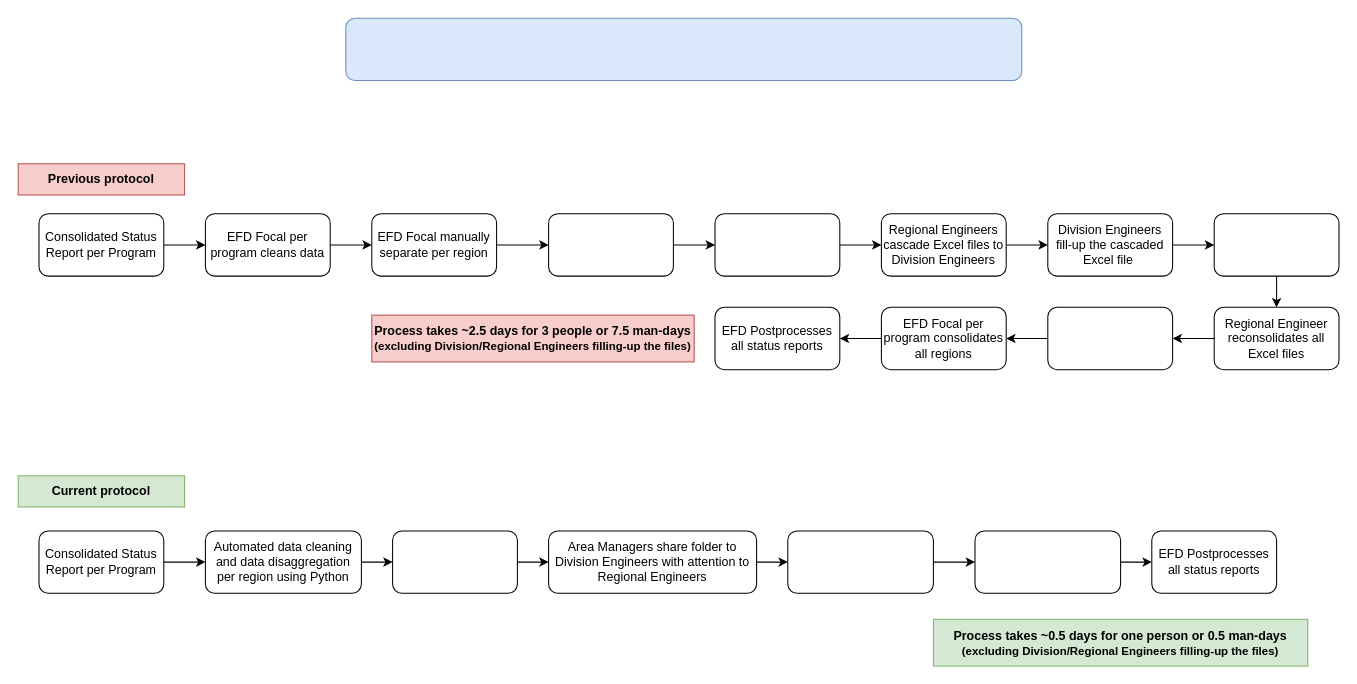
Some shapes in this 1357 by 684 pixel diagram are drawn without their labels. Here are the shapes that lost their labels. From the top down, the centre of each, then its label:
At (x=683, y=49): "Protocol for Disseminating and Accomplishing the Weekly/Monthly Status Report".
At (x=610, y=244): "Upload Status Report to folders per region".
At (x=777, y=244): "Area Managers share folder to Regional Engineers".
At (x=1276, y=244): "Division Engineers transmits filled-up files to Regional Engineer".
At (x=1110, y=338): "Regional Engineer transmits consolidated file to EFD".
At (x=454, y=561): "Upload to folders per region".
At (x=860, y=561): "Division Engineers fill-up Excel files".
At (x=1047, y=561): "EFD auto-consolidates thru Power Query".
